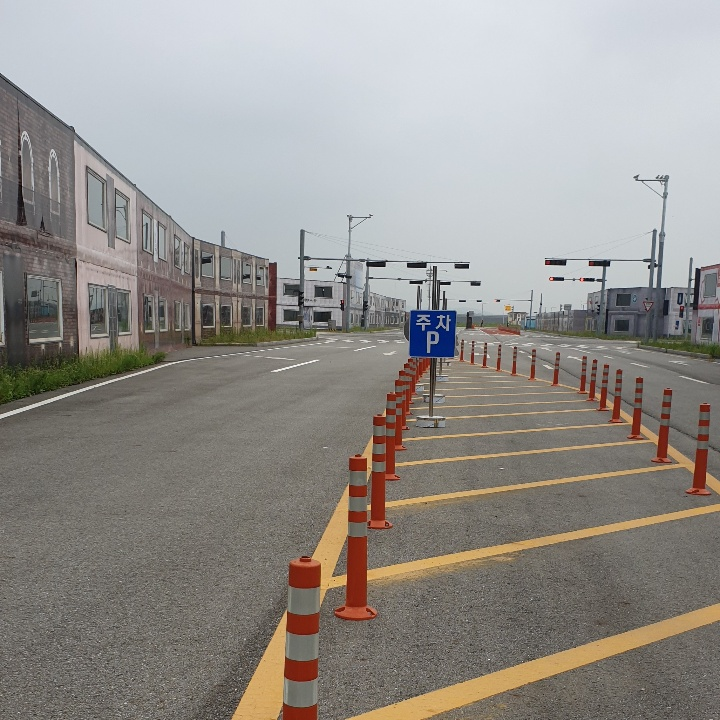parking: (419, 325, 446, 356)
